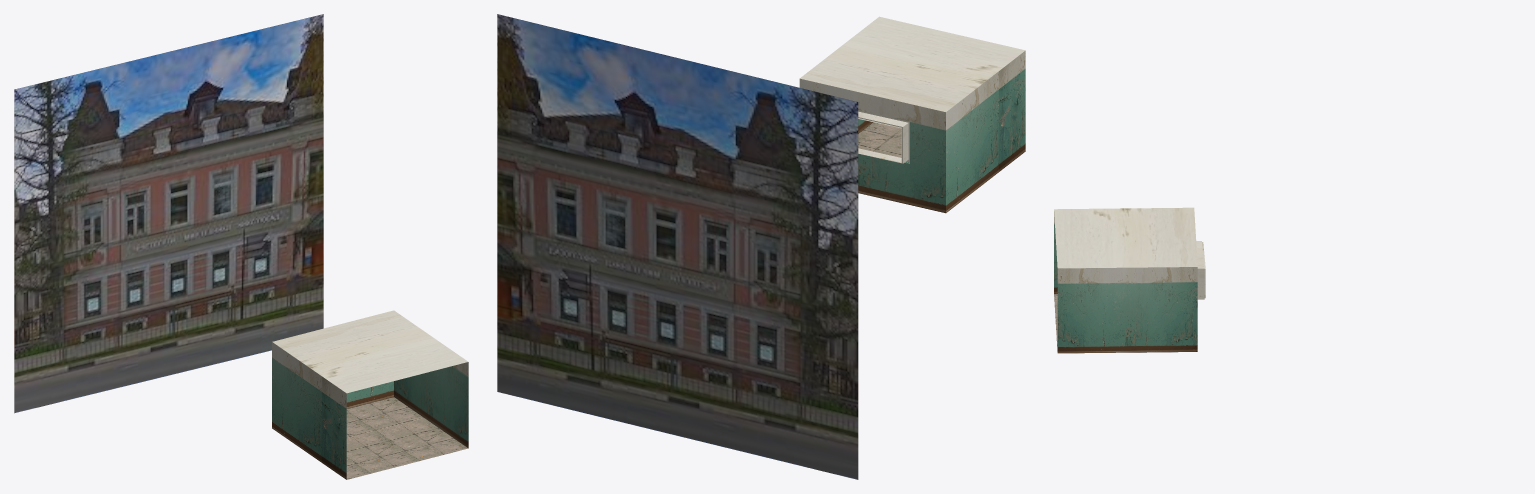
The model's file is loc.glb.
The picture shows the model from 3 angles, left to right: view 1: azimuth 30°, elevation 25°; view 2: azimuth 150°, elevation 25°; view 3: azimuth 270°, elevation 25°; orthographic projection. The views are drawn at different scales.
Parts seen in each view (by area): view 1: Window, Location; view 2: Window, Location; view 3: Location.
Boxes of the visible parts, box(x1,y1,x2,y2) form: Window: box(14, 14, 323, 413); Location: box(272, 310, 468, 479); Window: box(497, 14, 858, 479); Location: box(799, 16, 1025, 213); Location: box(1054, 207, 1205, 353).
Bounding box in the file's own units: 10 × 10 × 13.32.
4 materials, 4 textured.
